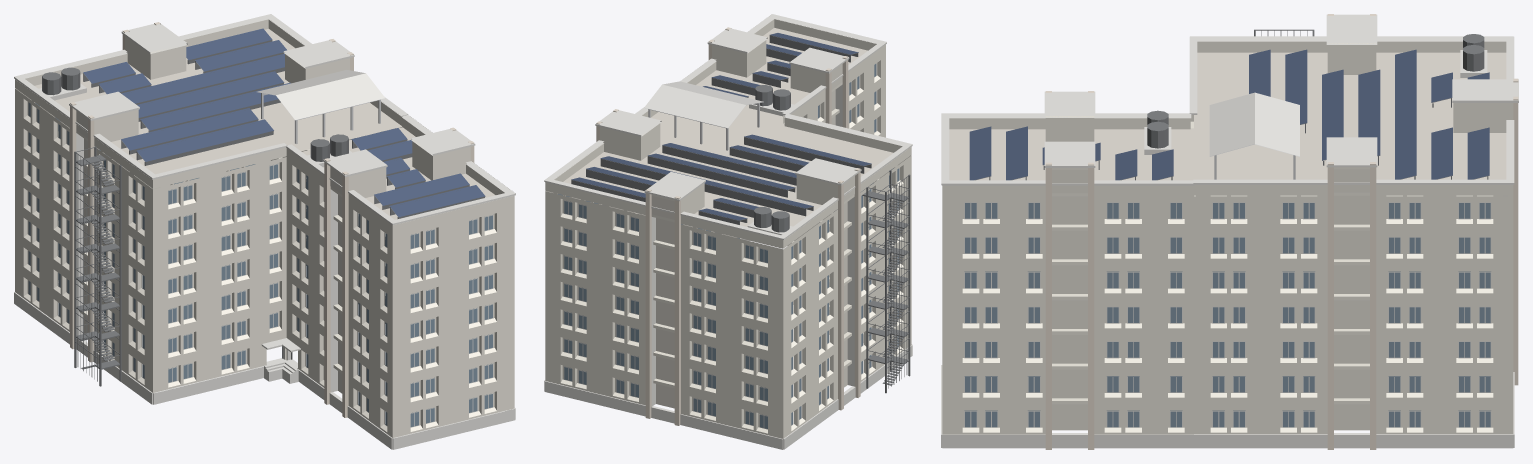
File: Girls_Hostel_D.fbx
3 renders of one model, left to right at view 1: azimuth 30°, elevation 25°; view 2: azimuth 150°, elevation 25°; view 3: azimuth 270°, elevation 25°, orthographic. The views are drawn at different scales.
Parts seen in each view (by area): view 1: Girls_Hostel_D; view 2: Girls_Hostel_D; view 3: Girls_Hostel_D.
Part boxes in pixels (x1,y1,x2,y2): Girls_Hostel_D: [14, 14, 515, 449]; Girls_Hostel_D: [544, 14, 912, 449]; Girls_Hostel_D: [941, 14, 1518, 449].
Bounding box in the file's own units: 34.18 × 28.88 × 51.22.
